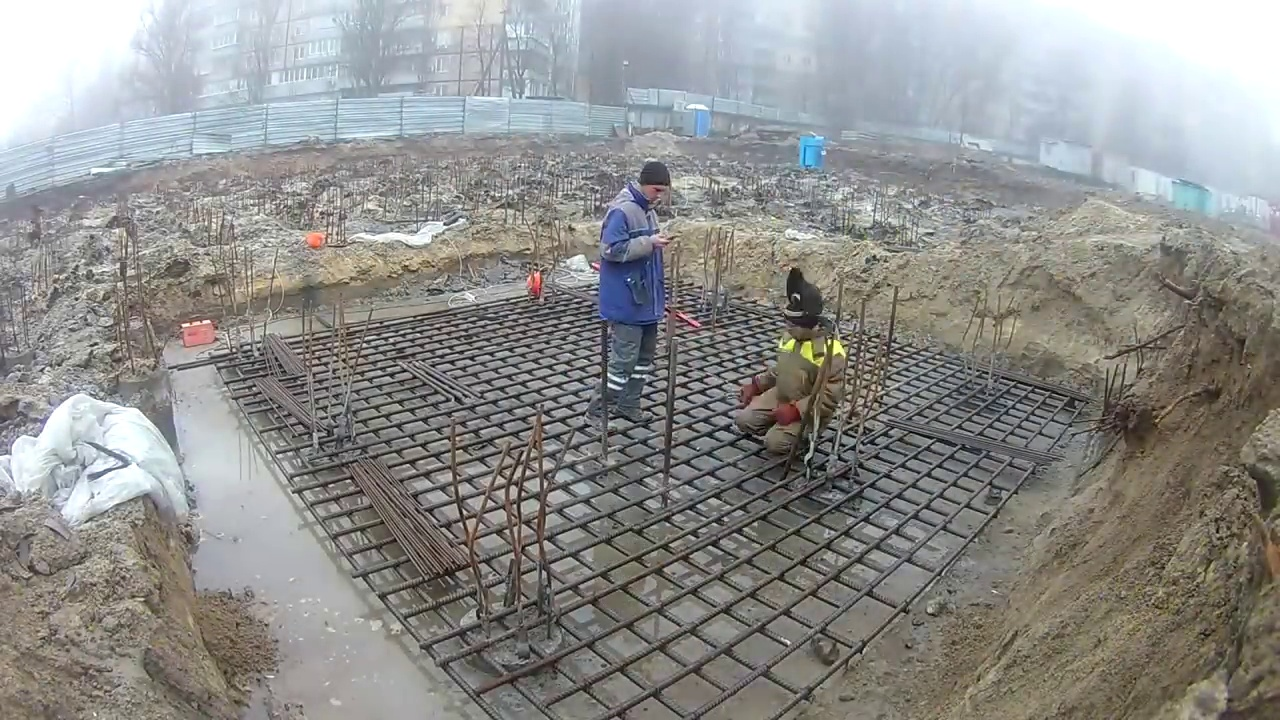helmet: (526, 270, 543, 303)
helmet-off: (783, 276, 820, 331), (636, 163, 674, 206)
person: (586, 160, 674, 424), (733, 269, 848, 462)
